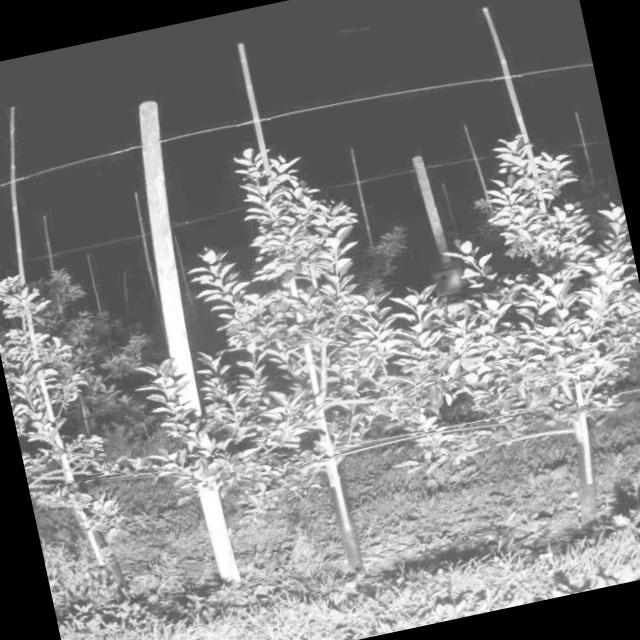Tree: (213, 125, 449, 588), (420, 123, 640, 513), (0, 260, 157, 587)
